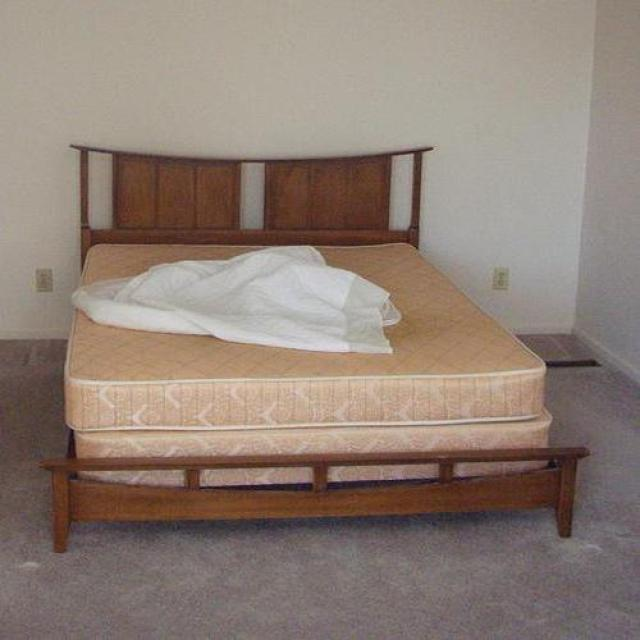bed: (40, 147, 593, 556)
